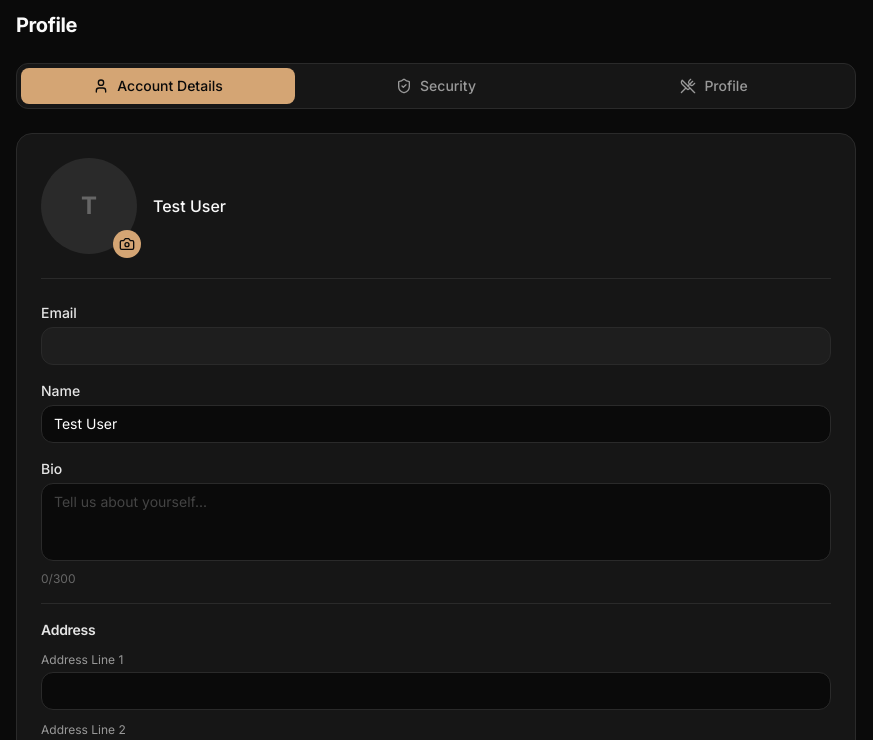
Test case: ProfilePage — Organisation tab admin status (AuthContext race) › resolves org-admin status once the user context loads, even if it loads after the org/members fetch
Click the tab "Profile": click(714, 86) 577,68 -> 851,104
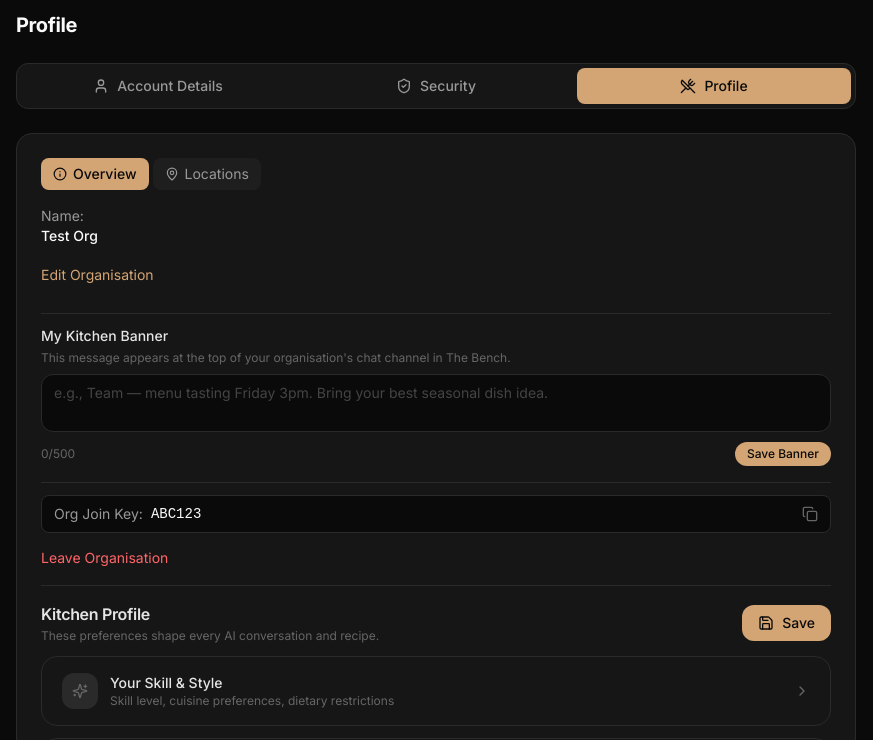
Expected: the button "Edit Organisation" is shown, 41,265 -> 154,285
